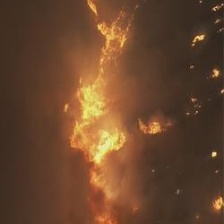fire: (56, 1, 169, 160)
